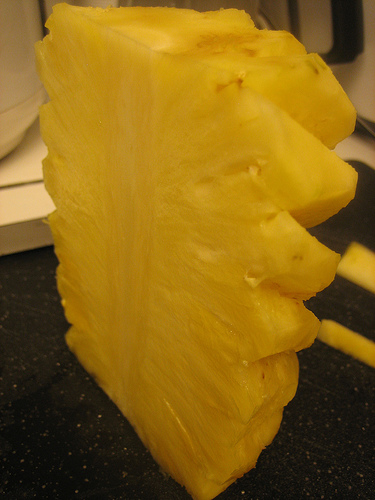pineapple: (33, 2, 358, 498)
